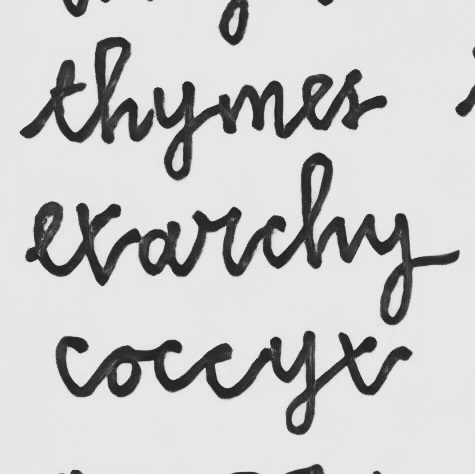a: (134, 218, 183, 282)
c: (258, 212, 291, 271)
e: (29, 199, 68, 280)
h: (298, 150, 351, 270)
r: (187, 205, 246, 279)
x: (70, 198, 125, 288)
y: (360, 209, 419, 327)
